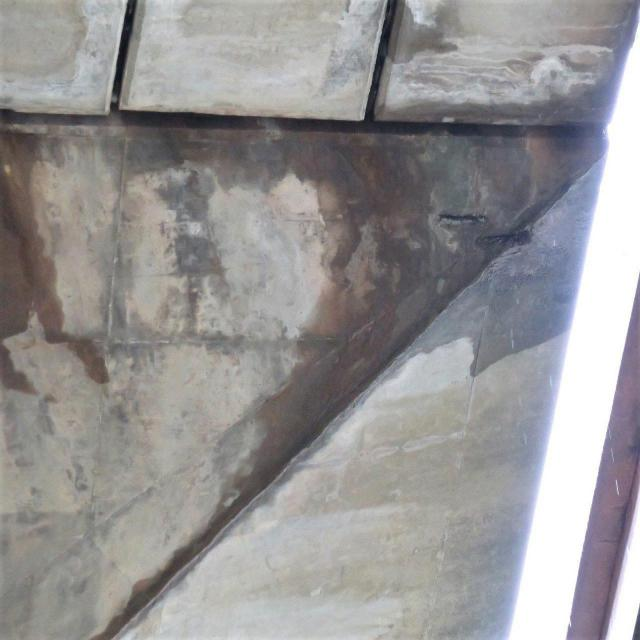Rebar: (436, 207, 490, 227), (476, 228, 532, 246)
